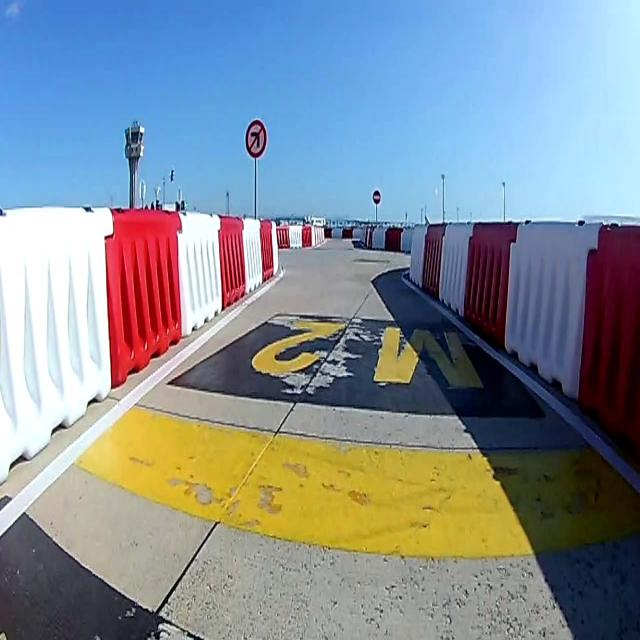soladonulmez: (246, 120, 266, 157)
